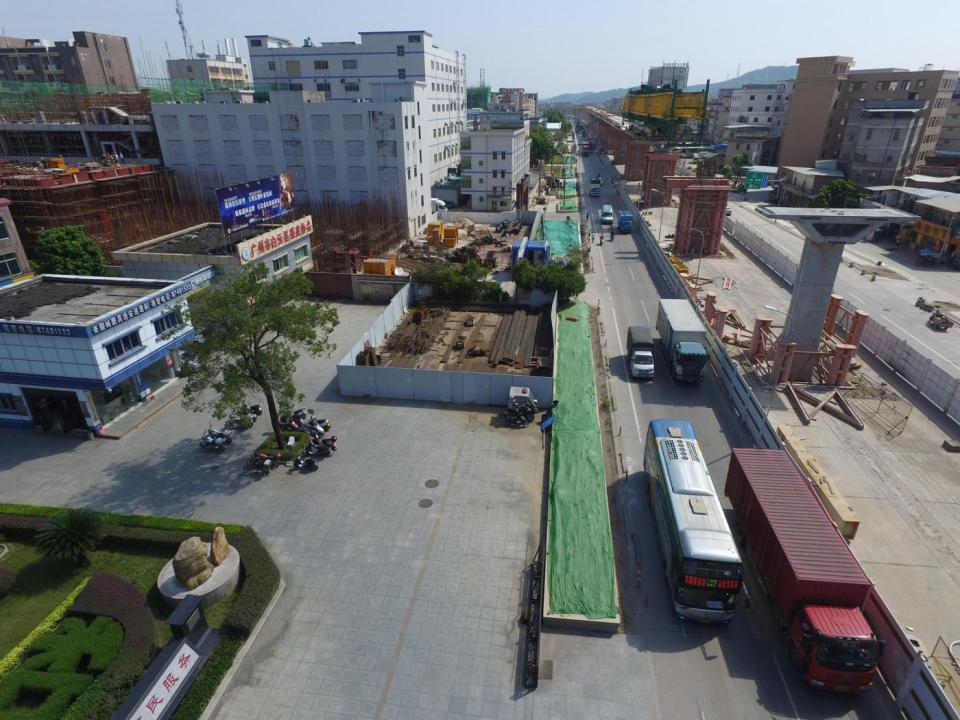bus: (643, 419, 743, 629), (672, 147, 714, 158)
car: (724, 207, 732, 216)
truck: (723, 448, 884, 693), (656, 298, 708, 385), (625, 326, 654, 378), (617, 211, 633, 235), (590, 178, 600, 197), (584, 137, 592, 153), (582, 141, 589, 156), (692, 153, 698, 163)
van: (601, 205, 614, 226)
